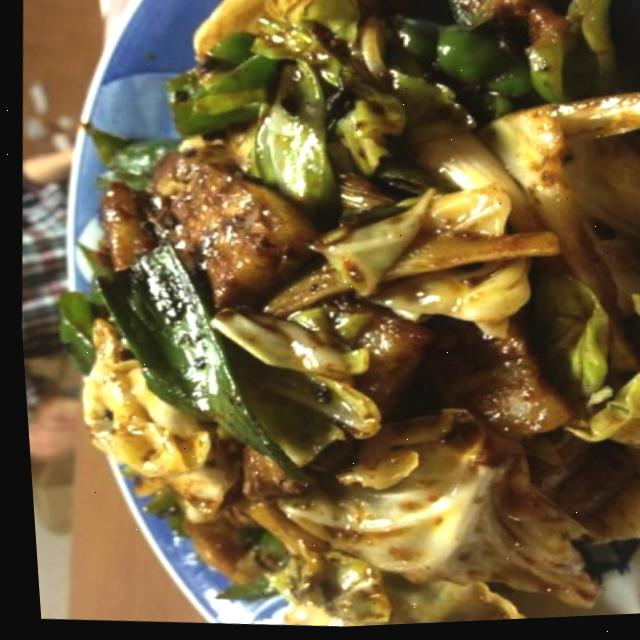面条主食: (24, 17, 640, 630)
